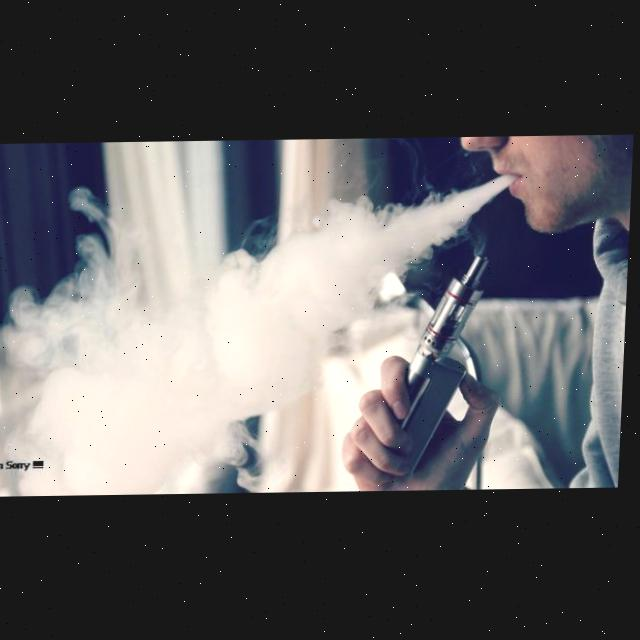vape: (383, 253, 493, 478)
